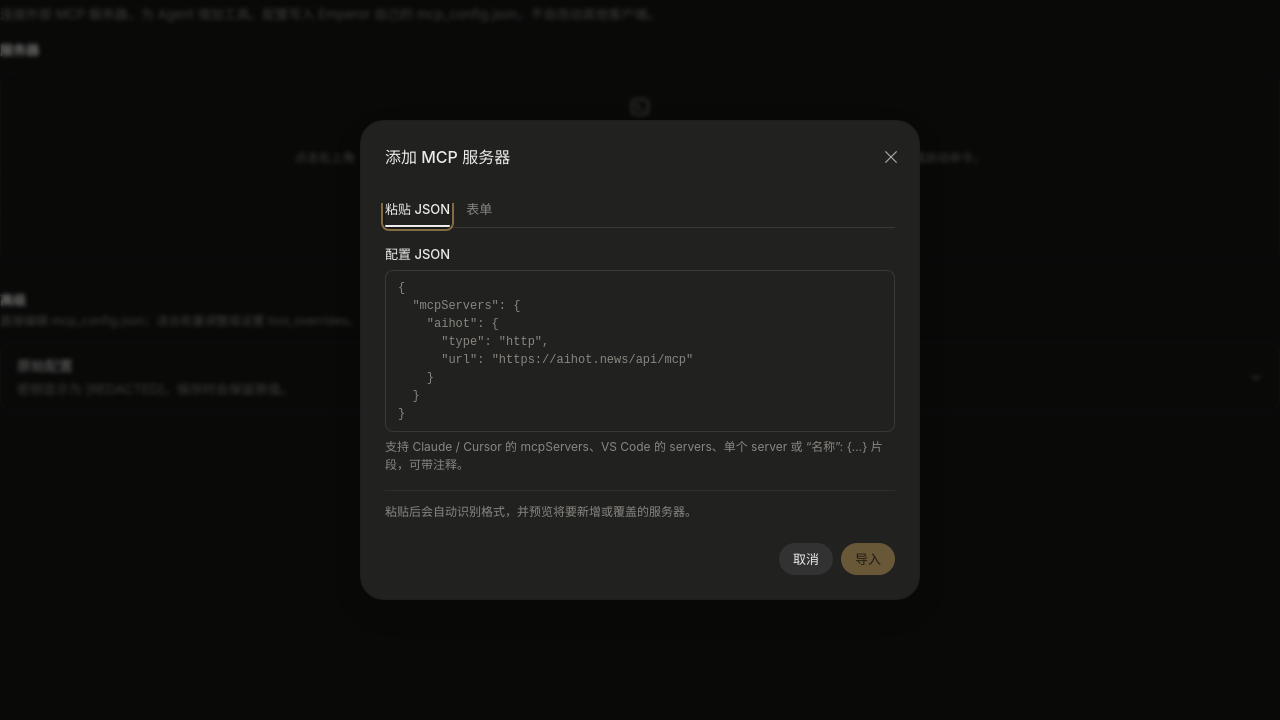
Test: McpSection add dialog › shows the Core parse error and keeps 导入 disabled
Replace the text in the text box labelled "配置 JSON" with "not json": (640, 351) [386,271,894,431]
Wait 350 ms
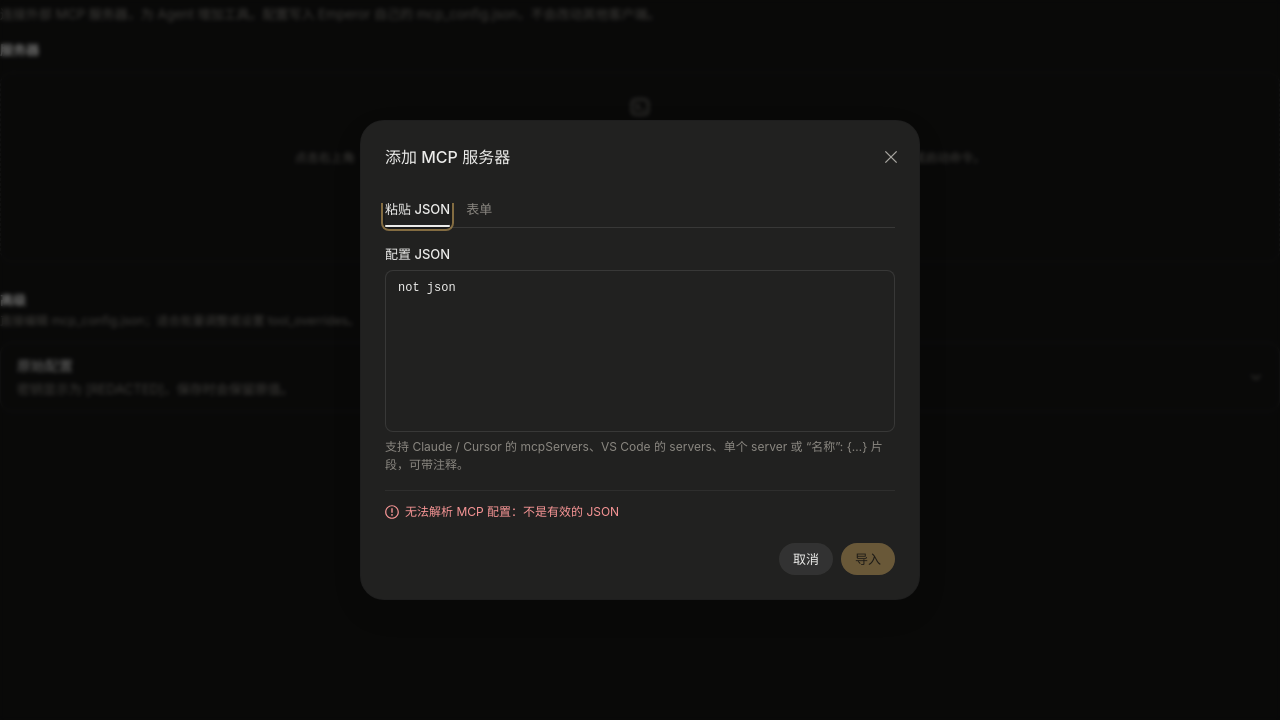
Expected: the button with test id "mcp-import-submit" is disabled, [841,543,895,575]
Expected: the message "无法解析 MCP 配置：不是有效的 JSON" is shown, [385,504,619,519]
